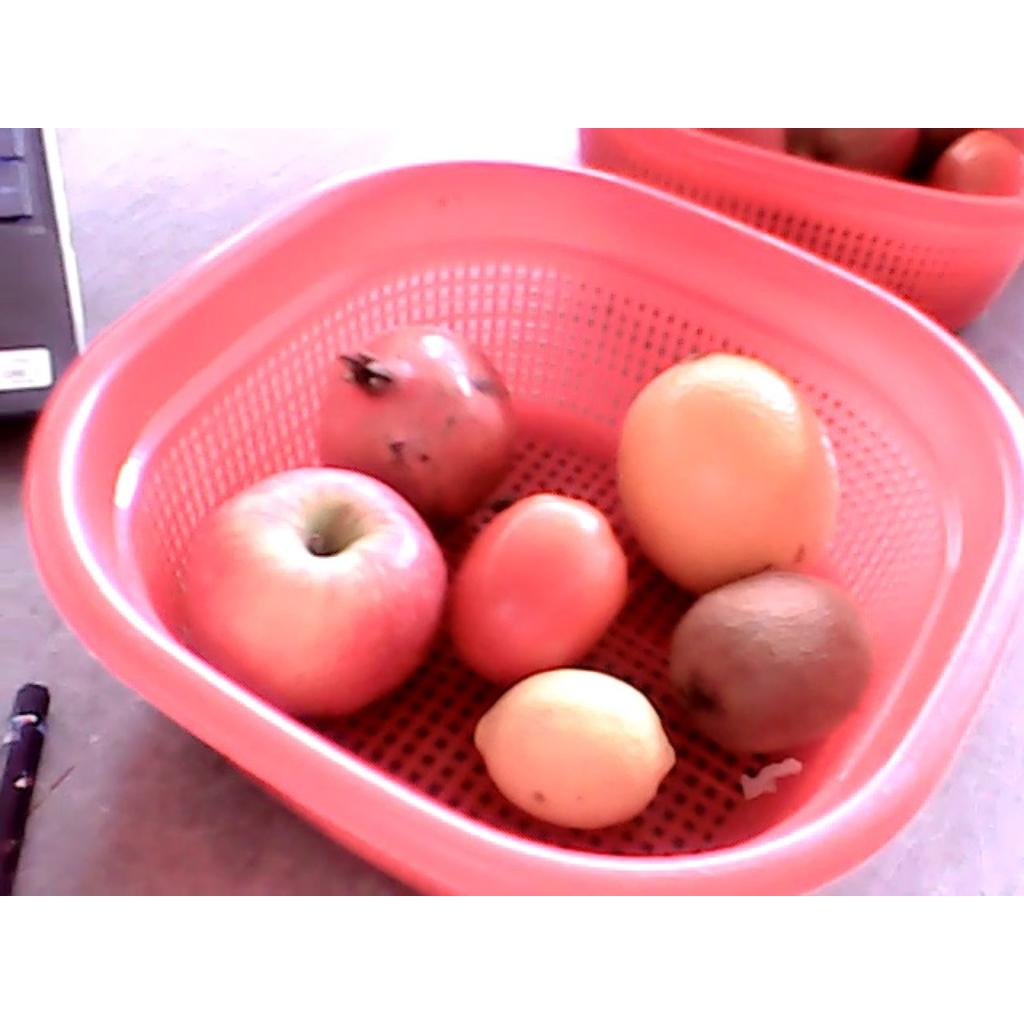apple: (187, 464, 448, 715)
kiwi: (672, 572, 872, 749)
lemon: (475, 669, 675, 831)
orange: (616, 351, 837, 588)
pomegranate: (317, 329, 516, 517)
tomato: (450, 492, 631, 682)
